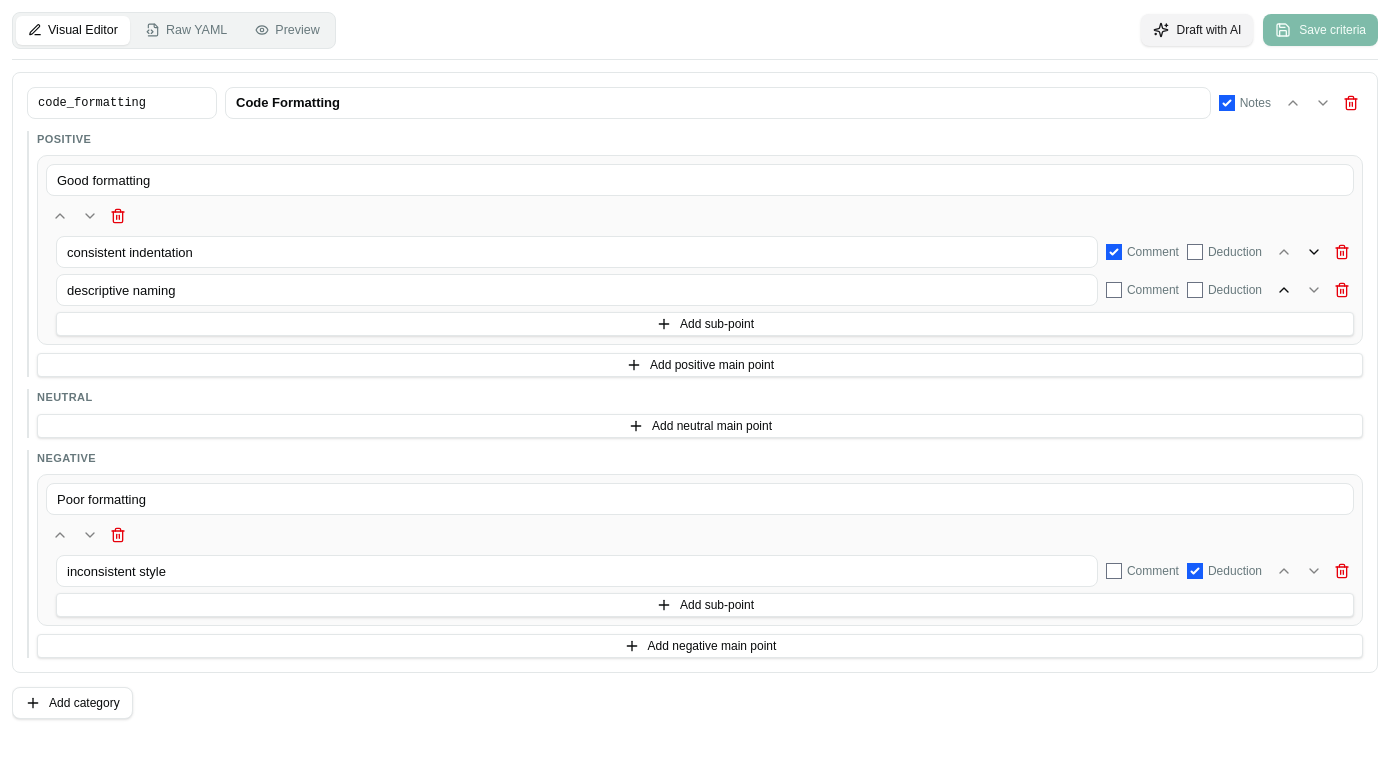
CriteriaEditorTabs › shows an inline error for invalid YAML and keeps the last valid draft
The image size is (1390, 780).
Click the tab "Raw YAML": coordinates (187, 30) [134,16,239,45]
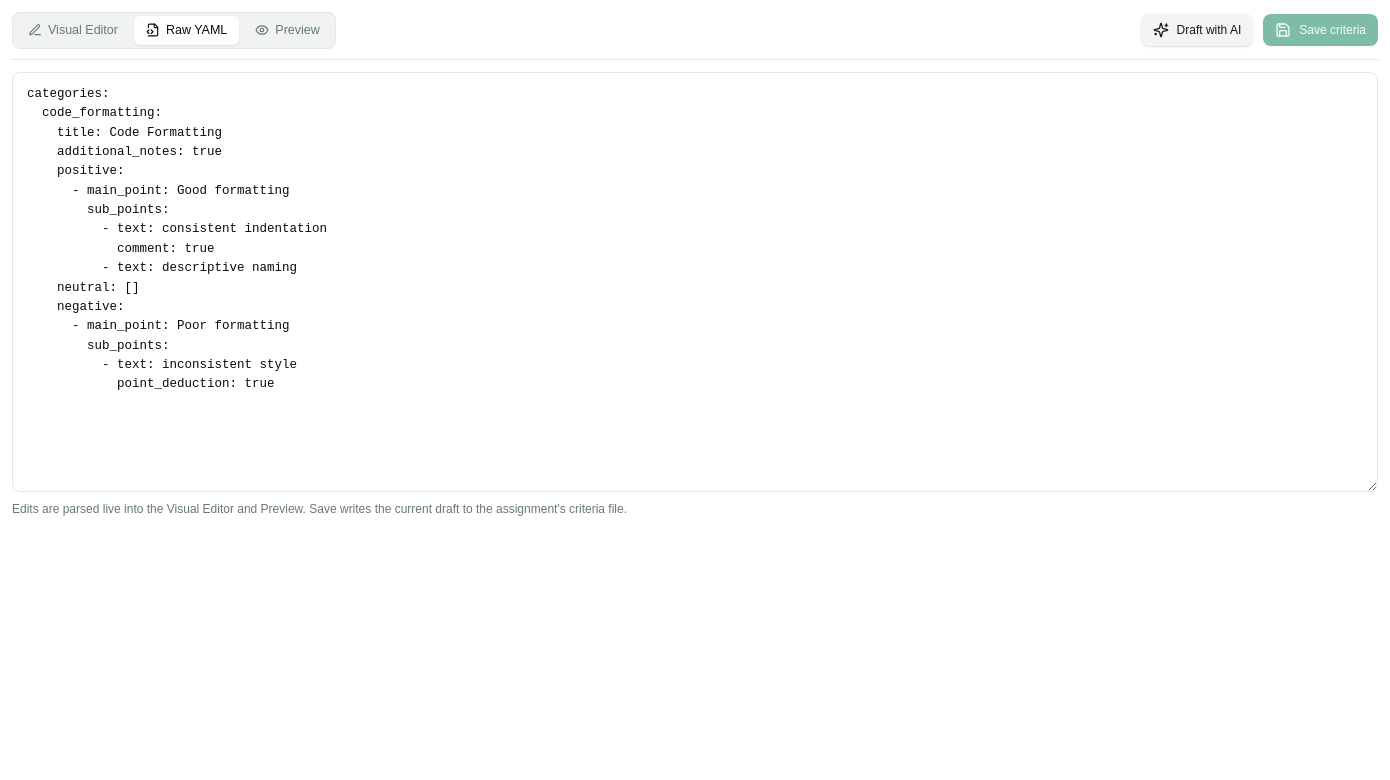
Replace the text in the text box named "Raw criteria YAML" with "categories: [unclosed": coordinates (695, 282) [12,72,1378,492]
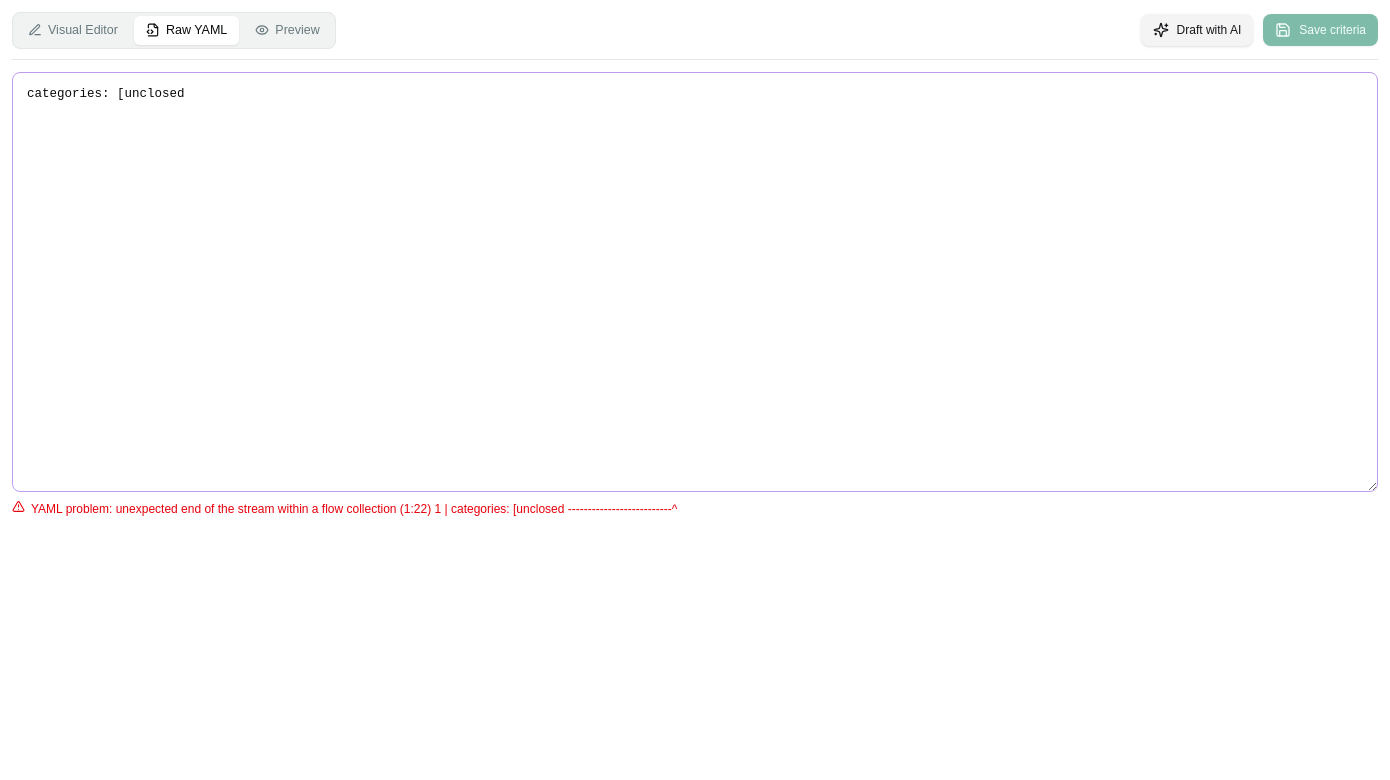
Check: the text "YAML problem" is shown, box [31,502,677,516]
